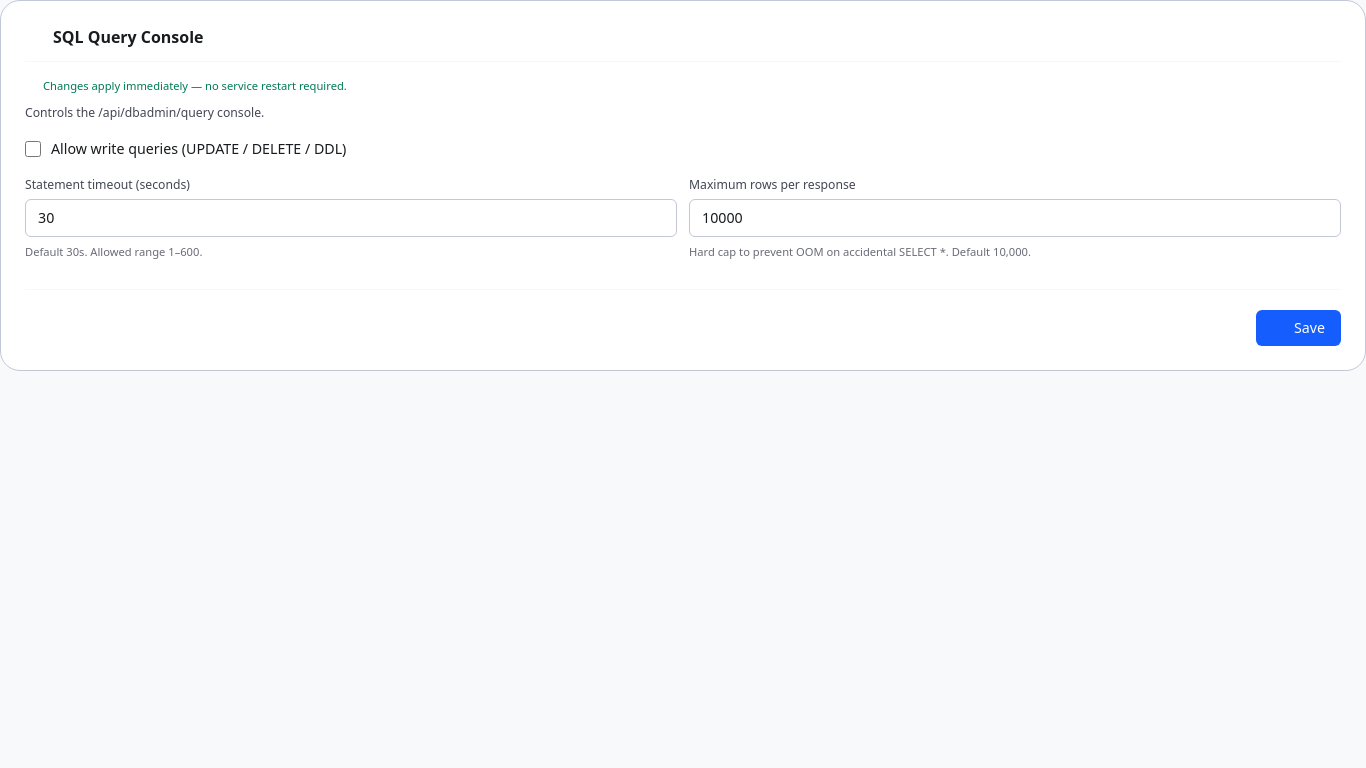
it: DbAdminSection › toggling write-queries off→on opens the confirm dialog instead of immediately enabling
The width and height of the screenshot is (1366, 768).
Expected: the number field showing "30" below "Statement timeout (seconds)" is shown, [25,199,677,237]
Click the checkbox at (33, 149), box [25,141,41,157]
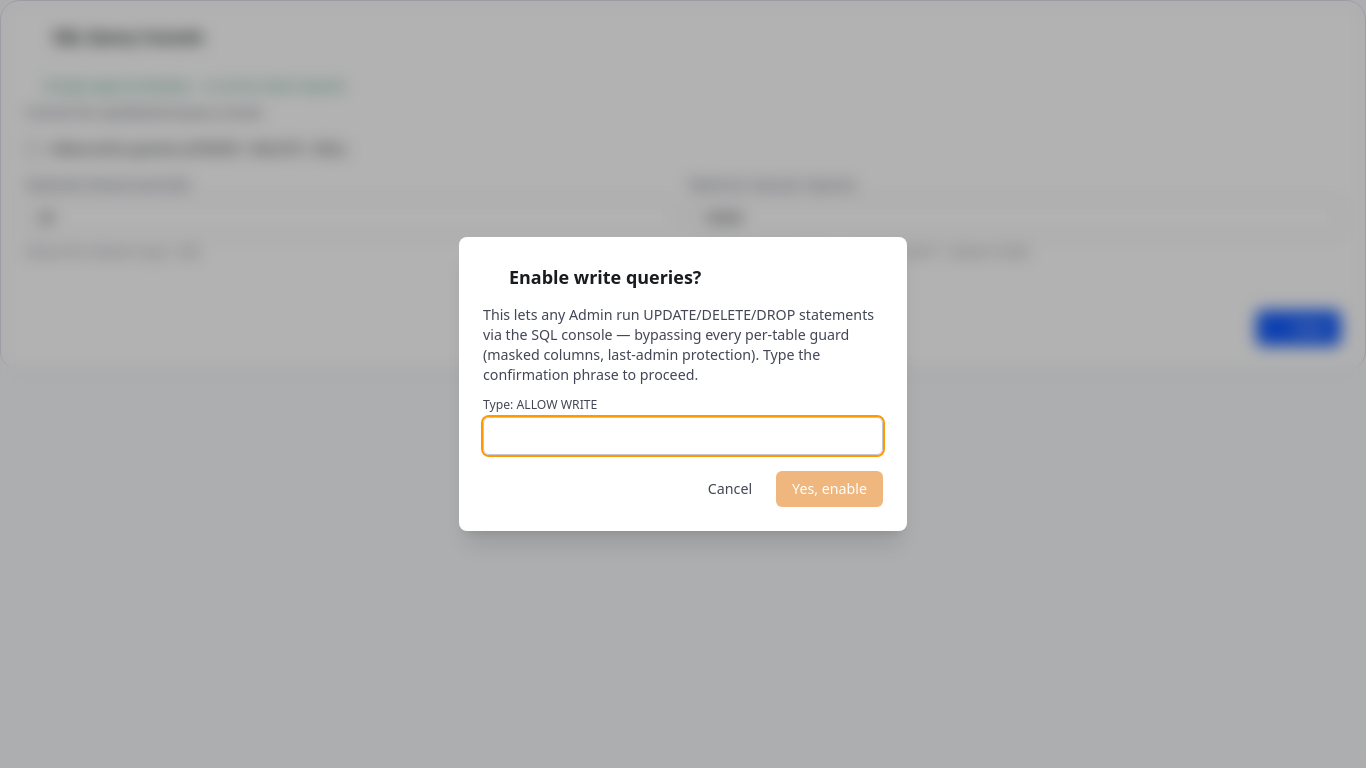
Expected: the heading "Enable write queries?" is shown, [483,263,701,291]
